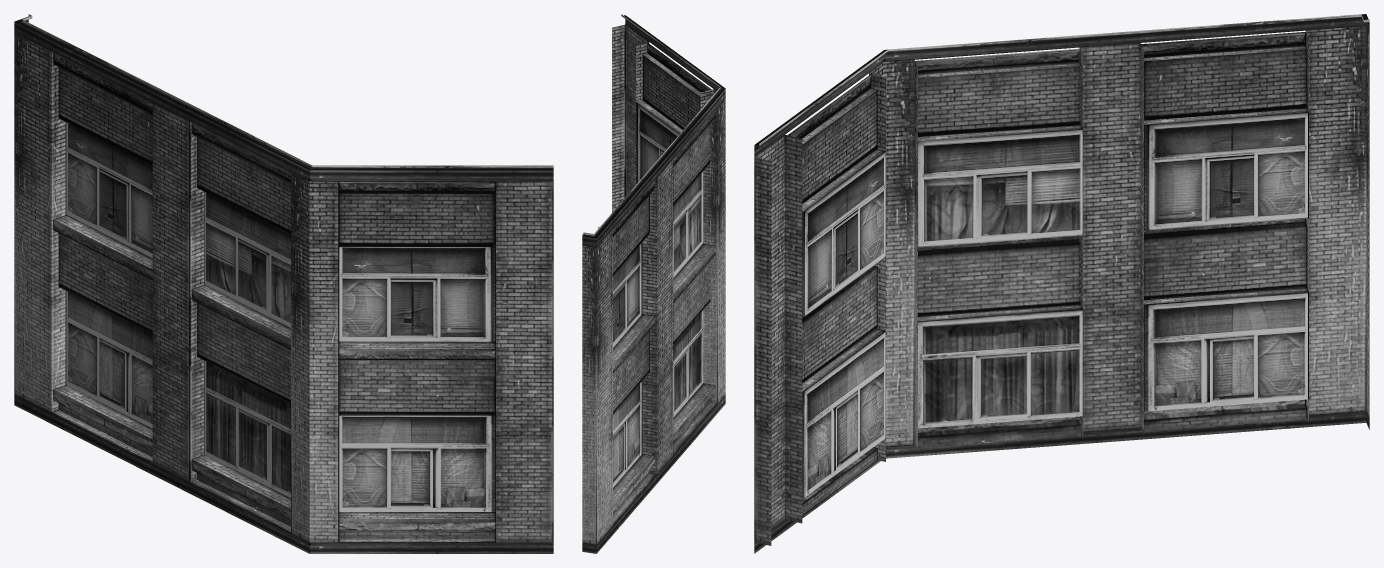
Rendered from downtown_block_5.fbx.
3 views of the same model, side by side, from view 1: azimuth 30°, elevation 25°; view 2: azimuth 150°, elevation 25°; view 3: azimuth 270°, elevation 25° (orthographic). The views are drawn at different scales.
Parts seen in each view (by area): view 1: downtown_building_1; view 2: downtown_building_1; view 3: downtown_building_1.
Boxes of the visible parts, x1,y1,x2,y2 form: downtown_building_1: [14, 14, 553, 553]; downtown_building_1: [582, 14, 725, 553]; downtown_building_1: [754, 14, 1369, 553].
Size of the model in its own units: 616 by 873 by 1183.
